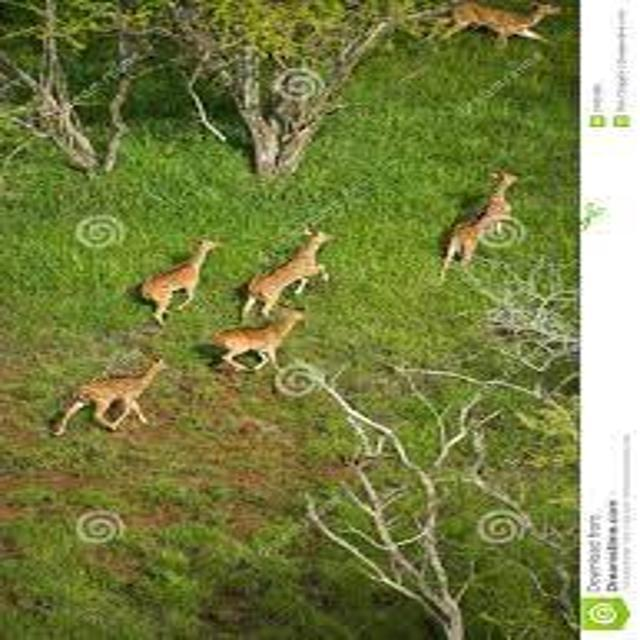Deer: (438, 150, 542, 285), (196, 296, 324, 386), (56, 352, 163, 448), (122, 210, 208, 320), (427, 3, 572, 67), (243, 220, 334, 312)
